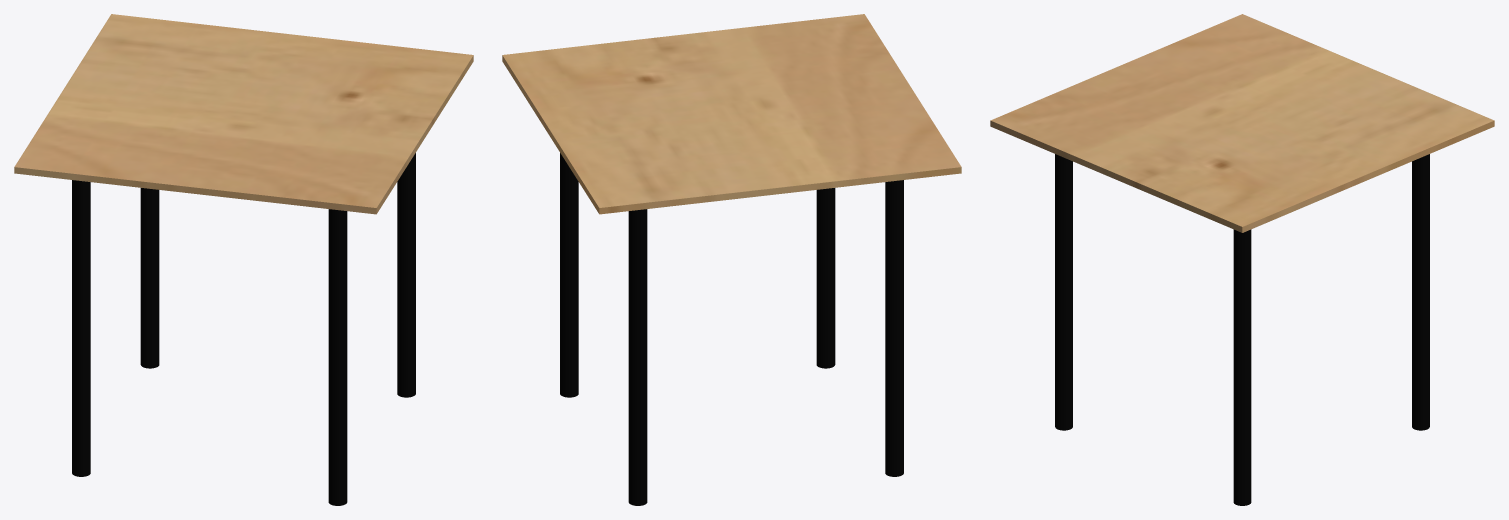
Rendered from table_new2.fbx.
The picture shows the model from 3 angles, left to right: view 1: azimuth 30°, elevation 25°; view 2: azimuth 150°, elevation 25°; view 3: azimuth 270°, elevation 25°; orthographic projection. The views are drawn at different scales.
Visible parts, largest first — view 1: 円柱, leg4, leg2, leg1, leg3; view 2: 円柱, leg3, leg2, leg1, leg4; view 3: 円柱, leg1, leg4, leg3.
Boxes of the visible parts, x1,y1,x2,y2 form: 円柱: (14,14,473,214); leg4: (328,209,347,505); leg2: (72,180,90,476); leg1: (397,153,415,397); leg3: (140,188,159,368); 円柱: (502,14,961,214); leg3: (628,209,647,505); leg2: (885,180,903,476); leg1: (560,153,578,397); leg4: (816,188,835,368); 円柱: (990,14,1494,232); leg1: (1233,229,1251,505); leg4: (1055,154,1072,430); leg3: (1412,154,1429,430).
Size of the model in its own units: 1130 by 758 by 1130.
Materials: 2 (1 with a texture image).
